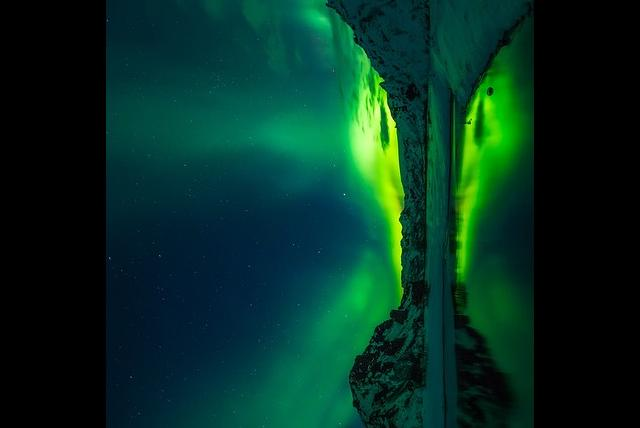Non_Gorille: (127, 43, 465, 428)
